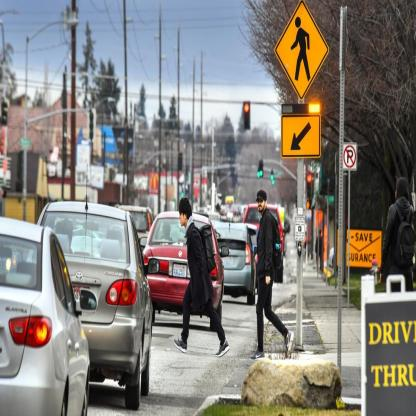Traffic Signal: (242, 103, 252, 134)
